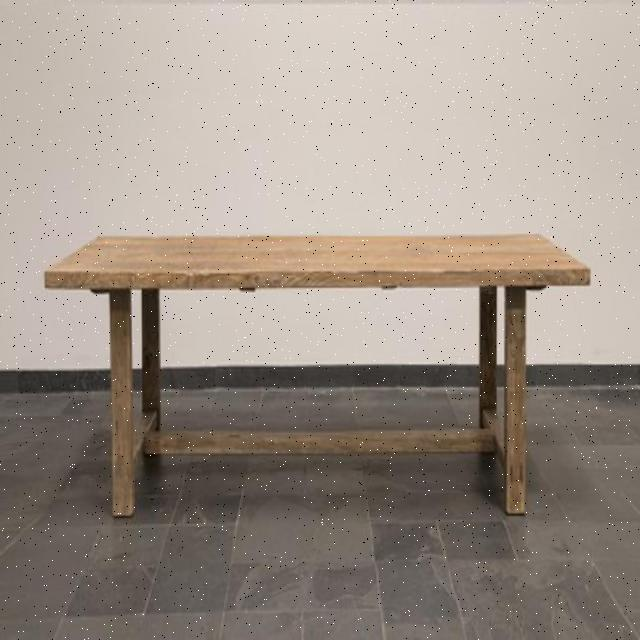mobile-phone: (43, 234, 593, 522)
